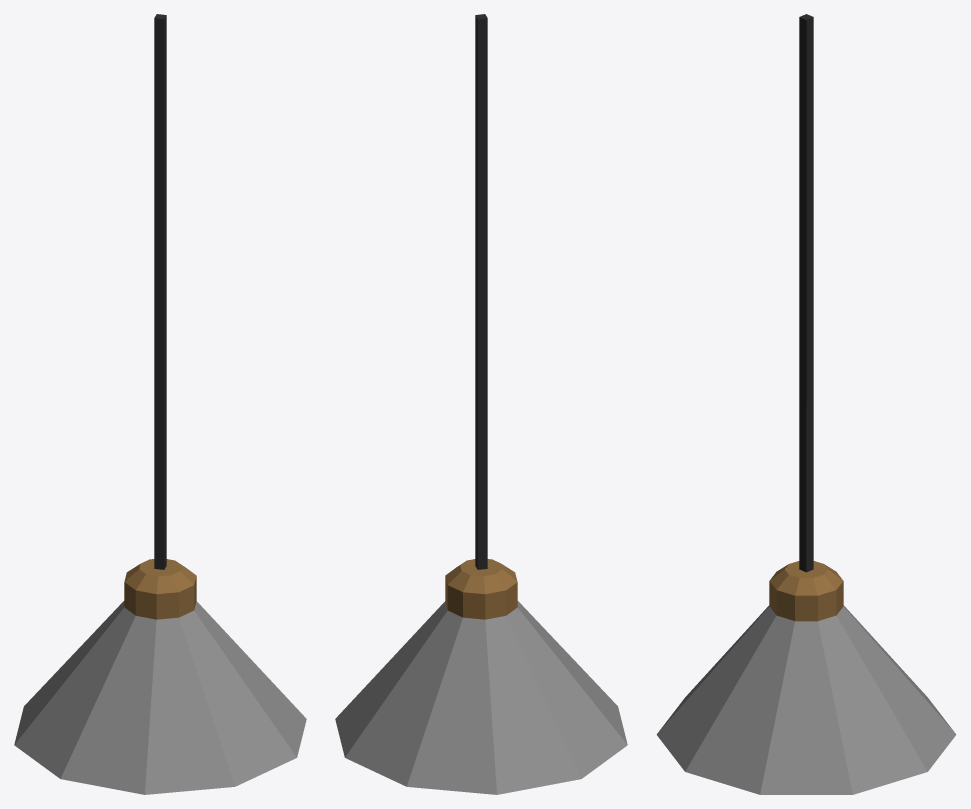
The model's file is CeilingLamp.fbx.
3 renders of one model, left to right at view 1: azimuth 30°, elevation 25°; view 2: azimuth 150°, elevation 25°; view 3: azimuth 270°, elevation 25°, orthographic.
Parts seen in each view (by area): view 1: Cone, Cylinder.002, Cylinder; view 2: Cone, Cylinder.002, Cylinder; view 3: Cone, Cylinder.002, Cylinder.
Boxes of the visible parts, x1,y1,x2,y2 form: Cone: (14, 601, 306, 794); Cylinder.002: (154, 14, 166, 569); Cylinder: (124, 559, 196, 619); Cone: (335, 601, 627, 794); Cylinder.002: (475, 14, 487, 569); Cylinder: (445, 559, 517, 619); Cone: (656, 605, 956, 794); Cylinder.002: (799, 14, 813, 572); Cylinder: (769, 561, 843, 621).
Bounding box in the file's own units: 346 × 960 × 364.
